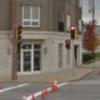traffic lights: (69, 24, 77, 41), (16, 25, 24, 41)
